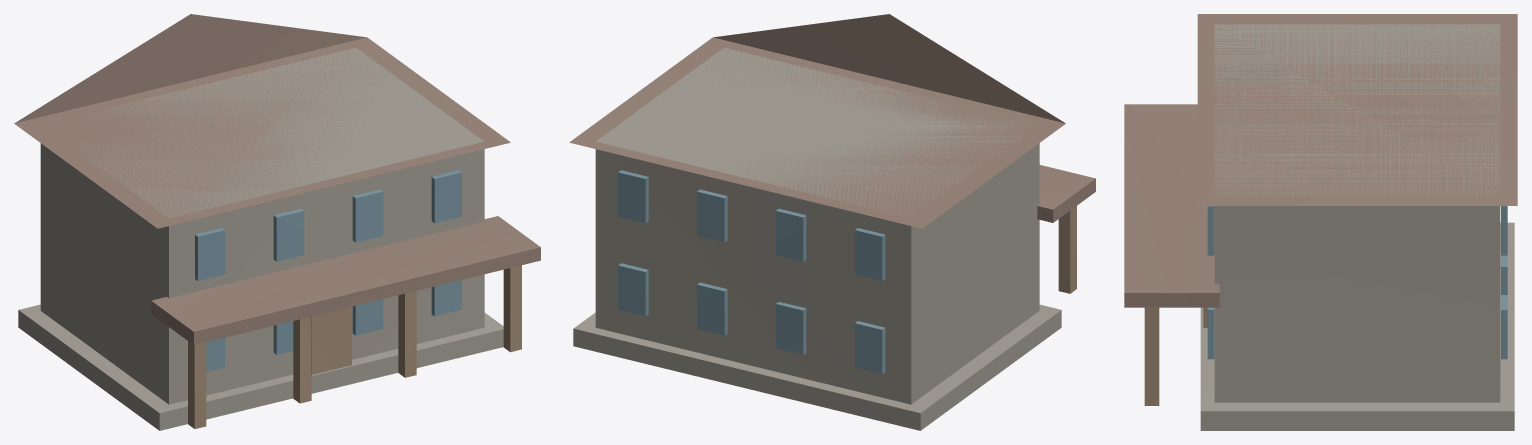
Rendered from market-07.glb.
3 views of the same model, side by side, from view 1: azimuth 30°, elevation 25°; view 2: azimuth 150°, elevation 25°; view 3: azimuth 270°, elevation 25° (orthographic). The views are drawn at different scales.
Visible parts, largest first — view 1: world; view 2: world; view 3: world.
Part boxes in pixels (x1=…): world: x1=14, y1=14, x2=540, y2=430; world: x1=569, y1=14, x2=1095, y2=430; world: x1=1124, y1=14, x2=1517, y2=430.
Size of the model in its own units: 1.67 by 1.22 by 1.45.
